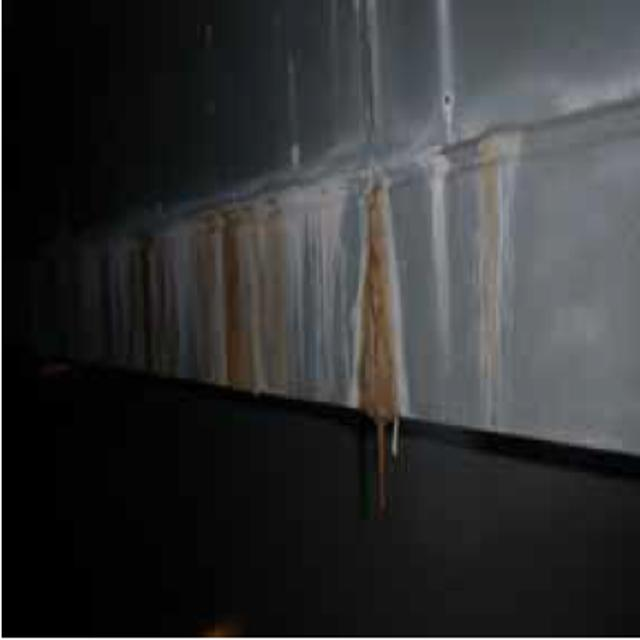freelime: (84, 161, 547, 406)
